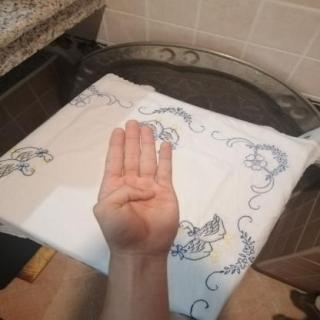KAAF: (79, 112, 195, 266)
